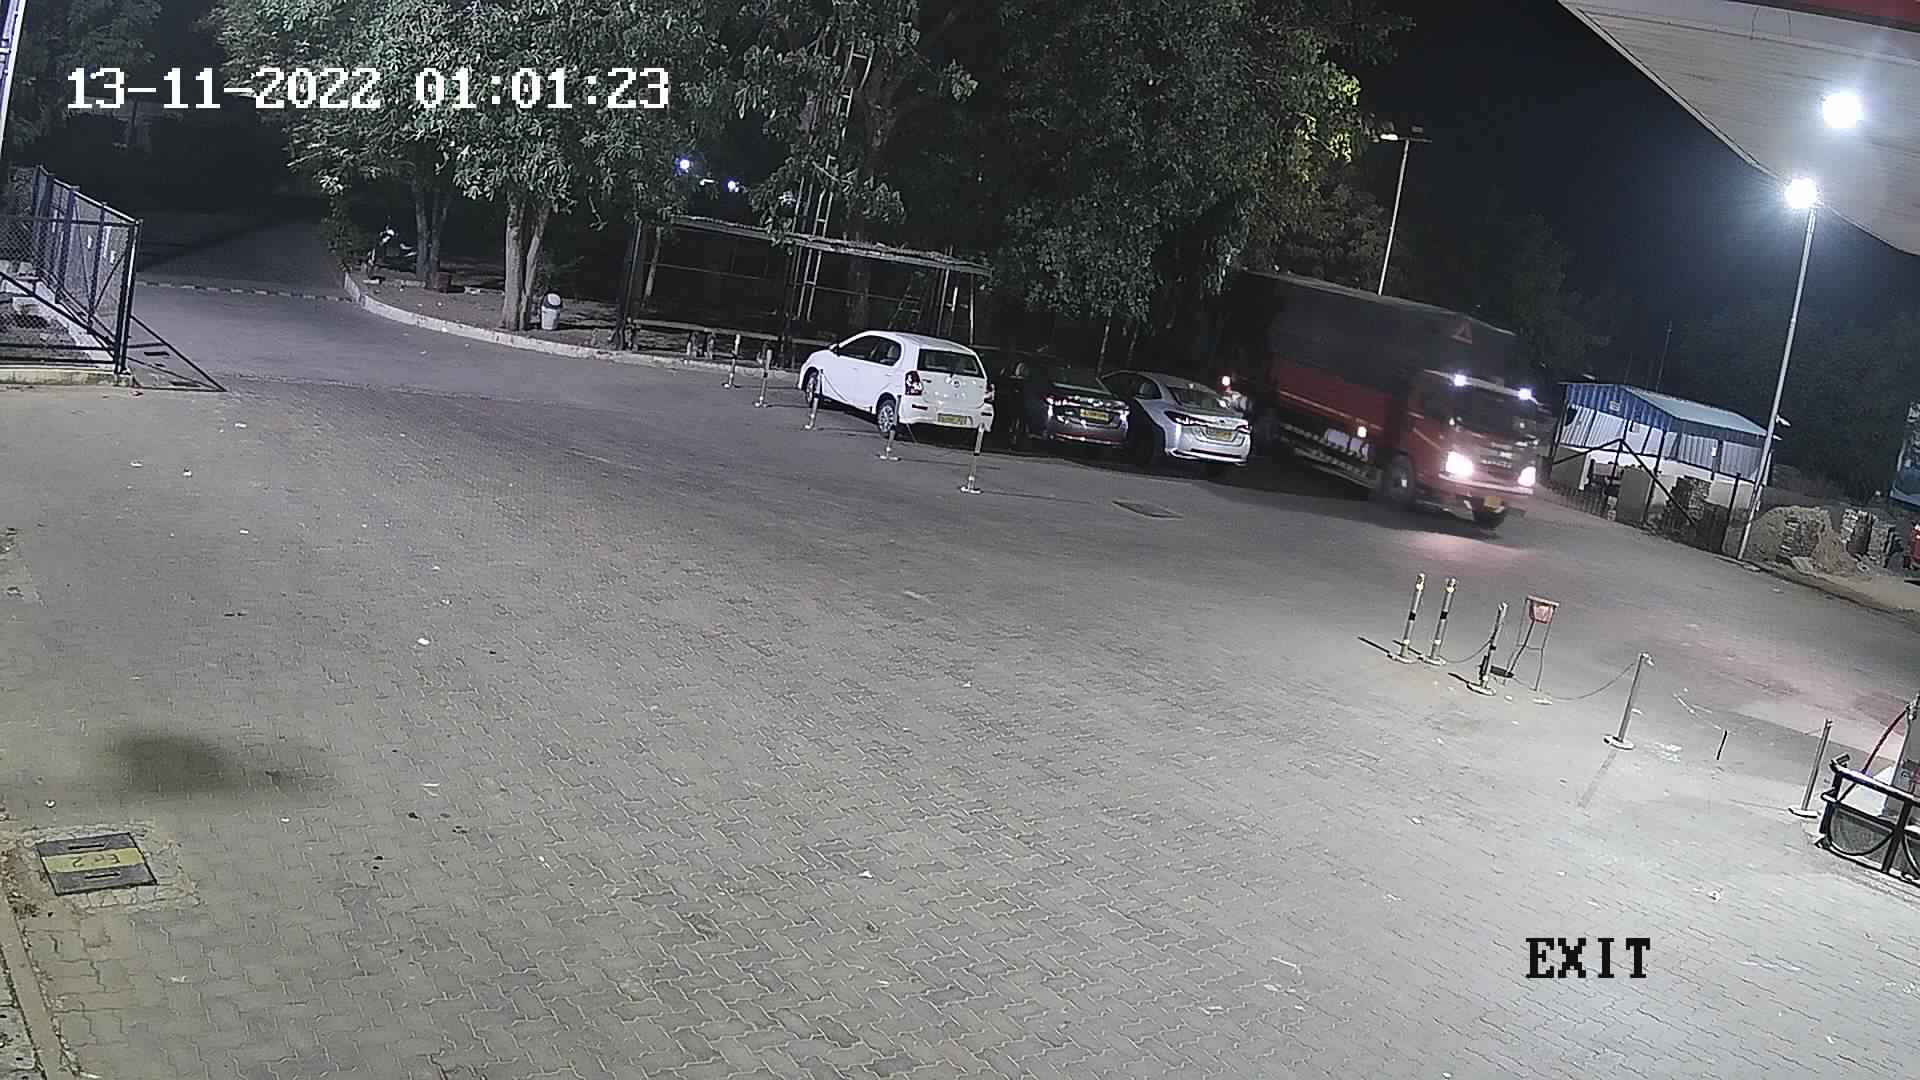Bike: (349, 208, 429, 285)
Car: (785, 316, 1010, 452), (952, 324, 1145, 469), (1092, 353, 1266, 483)
HMV: (1145, 237, 1573, 541)
